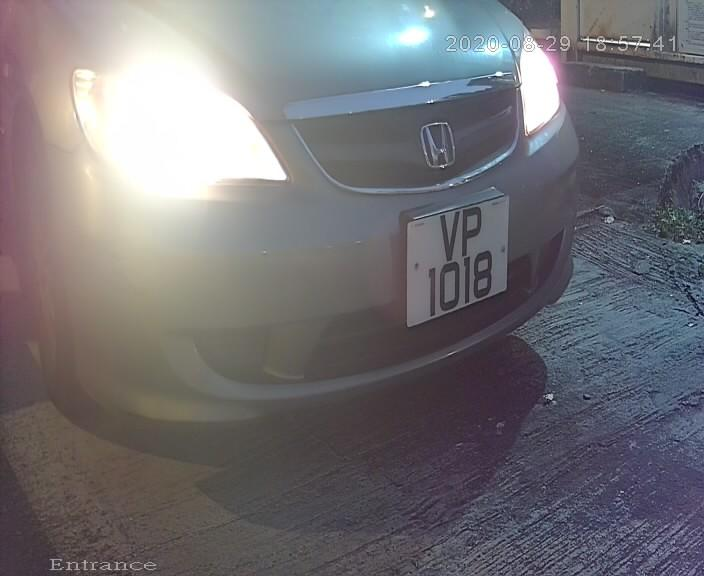License Plate: (400, 183, 513, 332)
